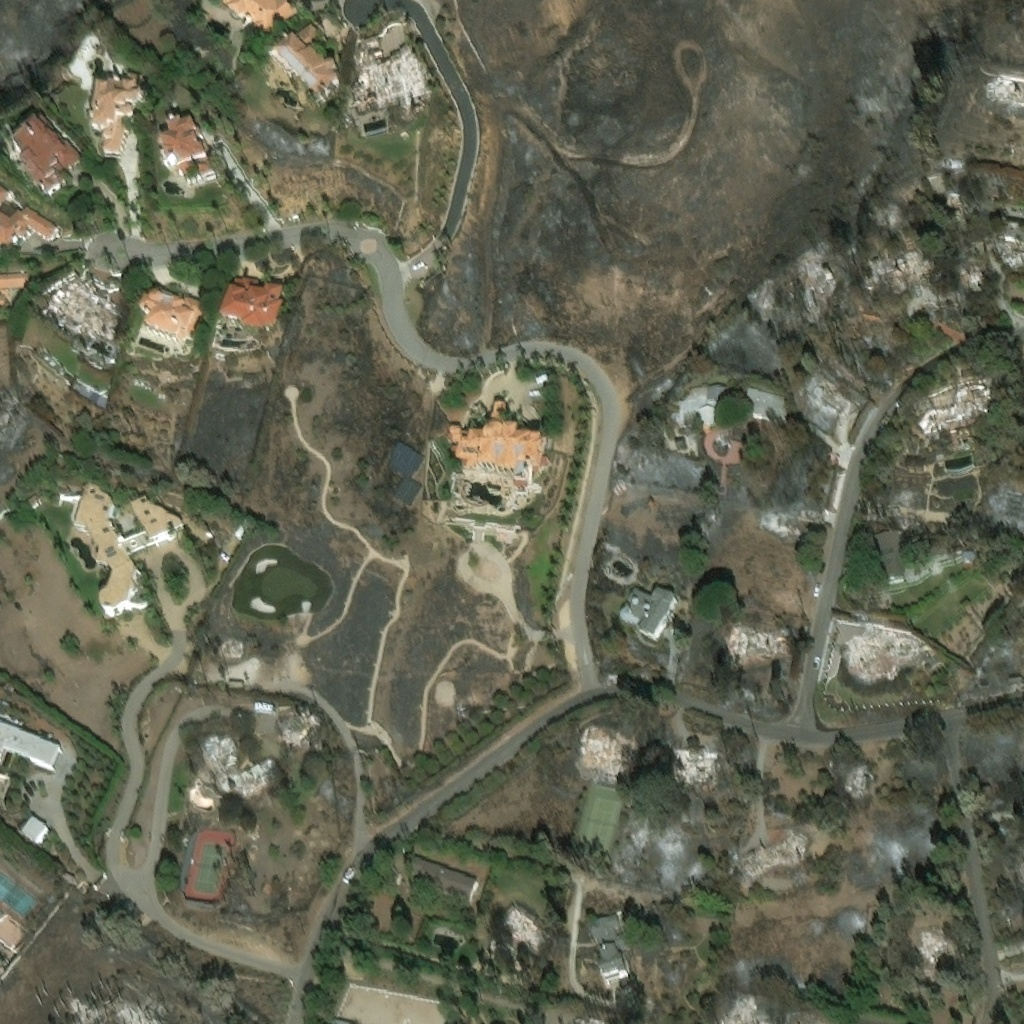0 no-damage: (447, 403, 549, 485), (408, 837, 491, 914), (11, 110, 77, 191), (671, 387, 782, 431), (158, 112, 215, 186), (0, 183, 58, 249), (92, 63, 138, 146), (0, 712, 60, 775), (220, 275, 284, 331), (873, 533, 933, 585), (140, 288, 201, 337), (226, 0, 293, 31), (0, 270, 28, 320), (22, 821, 49, 844)
1 minor-damage: (275, 18, 339, 91)
3 destroyed: (349, 33, 426, 119), (937, 372, 1023, 434), (720, 624, 796, 690), (201, 730, 278, 794), (46, 283, 121, 339), (742, 827, 805, 882), (847, 623, 911, 677), (71, 988, 163, 1023), (578, 722, 634, 777), (594, 915, 633, 987), (501, 900, 545, 944), (671, 747, 718, 782), (917, 927, 955, 969), (279, 712, 319, 751), (996, 231, 1023, 261), (722, 1012, 773, 1023), (846, 771, 868, 789)
4 un-classified: (74, 479, 182, 615), (704, 500, 815, 612), (603, 483, 698, 581), (332, 981, 448, 1023), (961, 711, 1023, 783), (708, 317, 782, 377)
